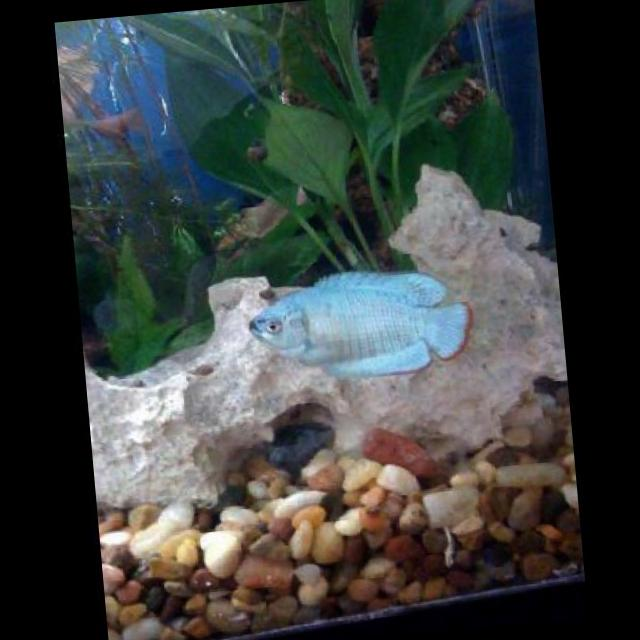Gourami: (237, 254, 480, 388)
